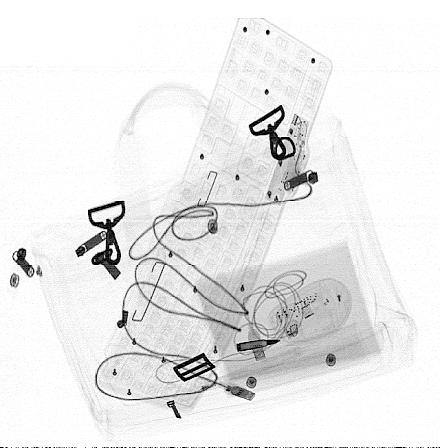Bullet: (236, 339, 281, 352)
